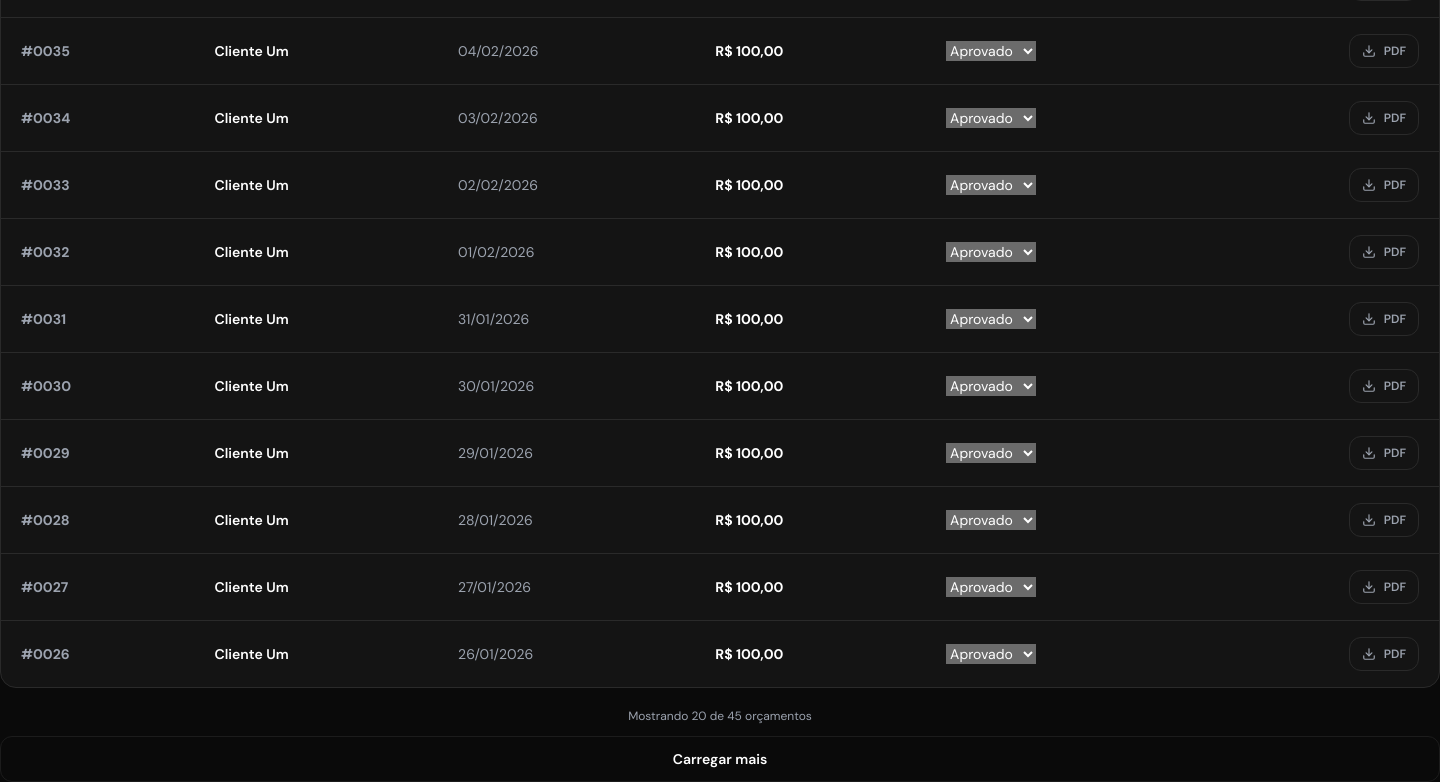
Test: OrcamentosPage — paginação › mostra o total e permite carregar os orçamentos antigos além da primeira página
This screenshot has width=1440, height=782.
(page scrolled)
Check: the text "Mostrando 20 de 45 orçamentos" is shown, box [628,708,812,724]
Check: the text "#0001" is not shown
Click the button "Carregar mais".
click(720, 759)  # box [0,736,1439,781]
(page scrolled)
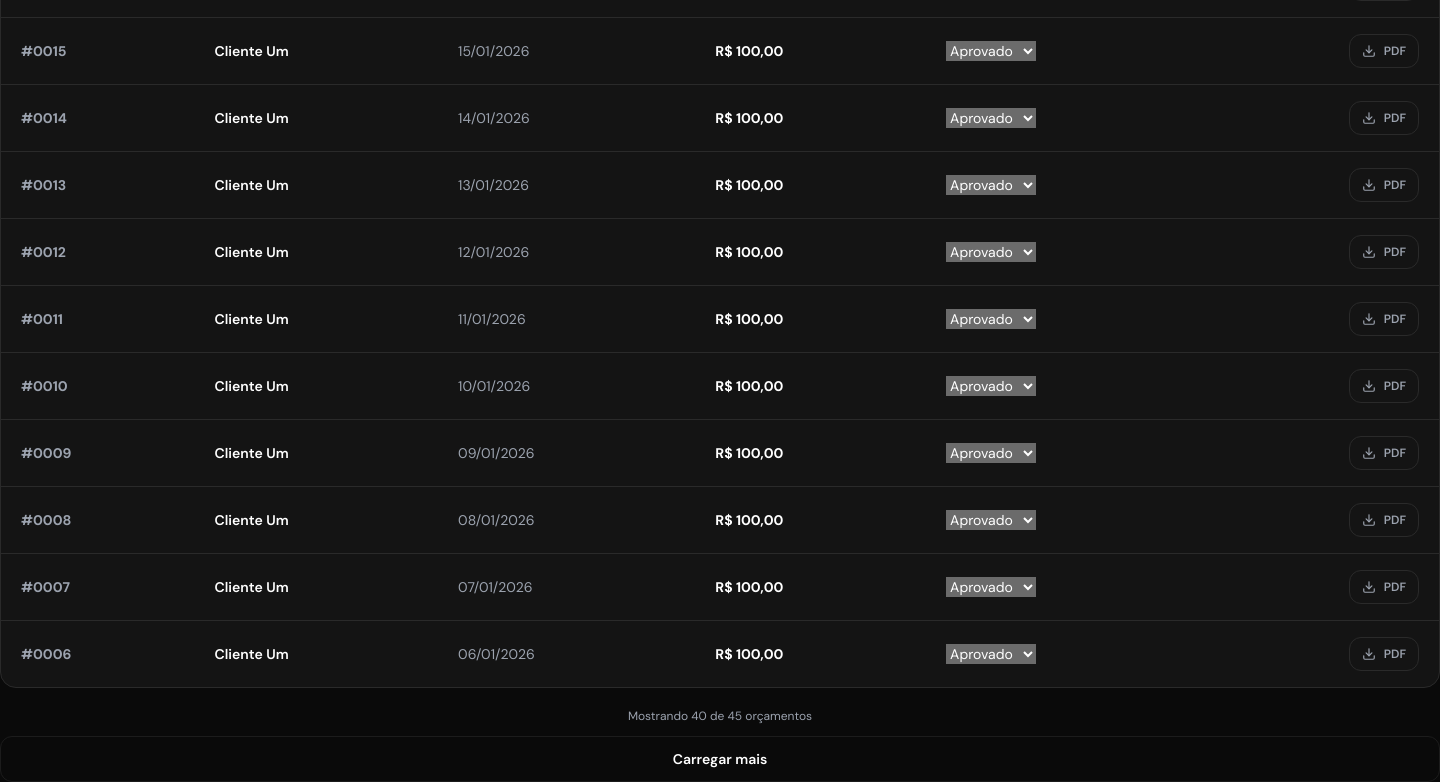
Check: the text "Mostrando 40 de 45 orçamentos" is shown, box [628,708,812,724]
Click the button "Carregar mais".
click(720, 759)  # box [0,736,1439,781]
(page scrolled)
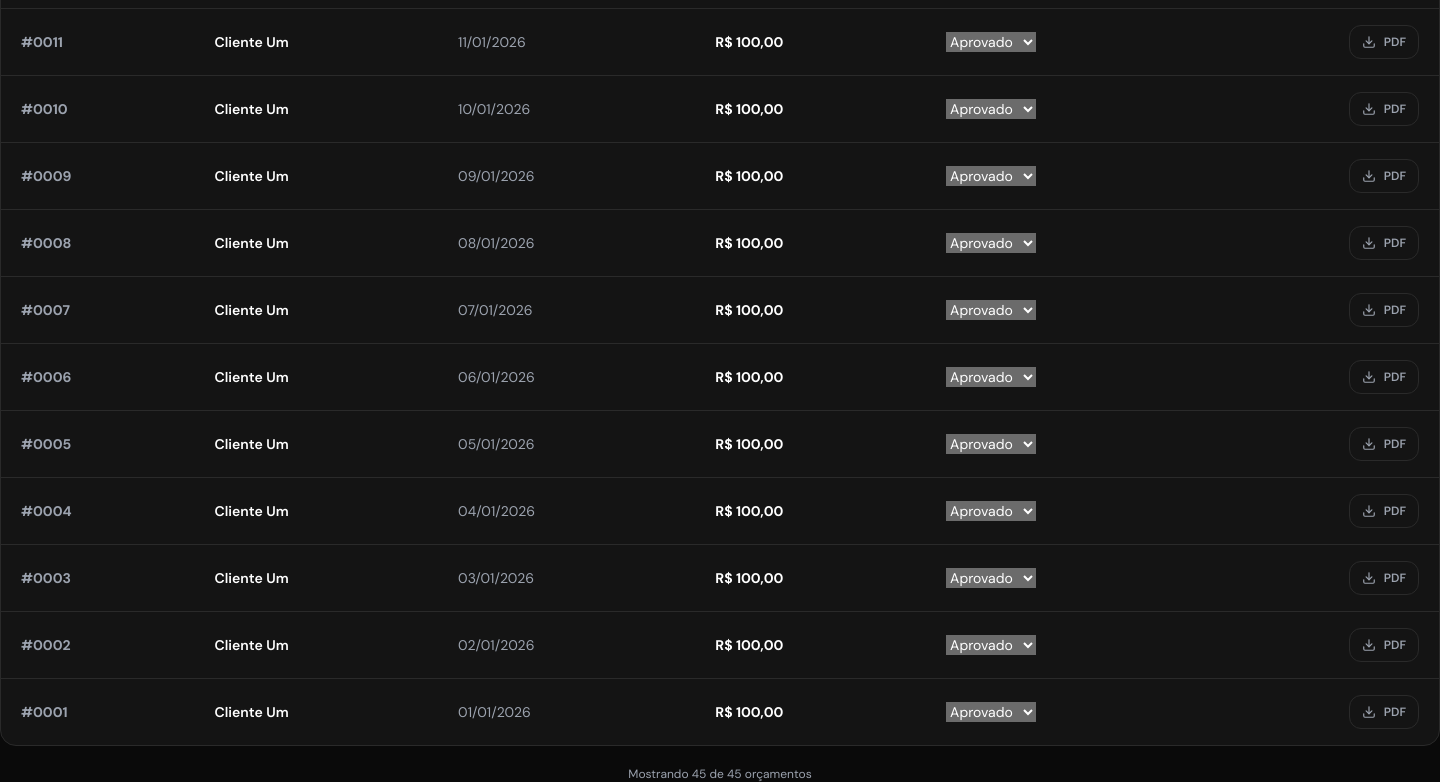
Check: the text "Mostrando 45 de 45 orçamentos" is shown, box [628,766,812,781]
Check: the text "#0001" is shown, box [1,678,194,745]
Check: the button "Carregar mais" is gone
